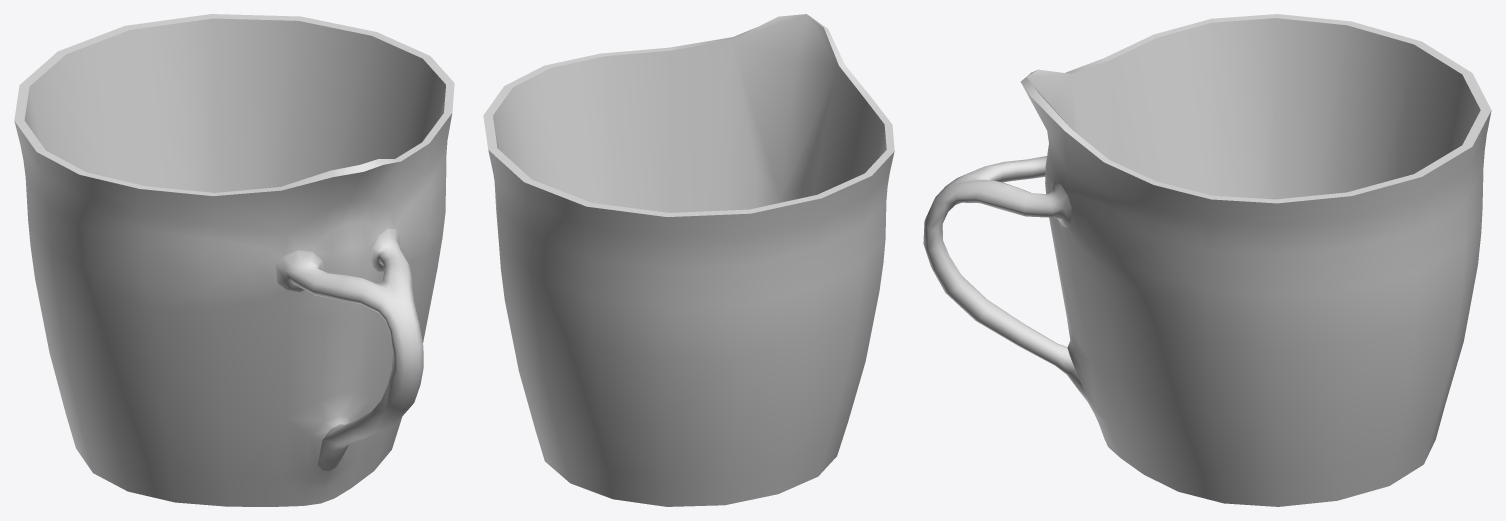
Rendered from Hea_Player_Mug.fbx.
3 renders of one model, left to right at view 1: azimuth 30°, elevation 25°; view 2: azimuth 150°, elevation 25°; view 3: azimuth 270°, elevation 25°, orthographic. The views are drawn at different scales.
Visible parts, largest first — view 1: Cup; view 2: Cup; view 3: Cup.
Part boxes in pixels (x1,y1,x2,y2): Cup: (14,14,454,506); Cup: (483,14,894,506); Cup: (923,14,1491,506).
Bounding box in the file's own units: 7.95 × 7.09 × 10.07.
